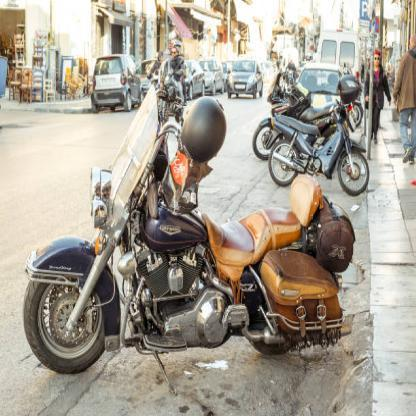Motorcycle: (14, 111, 365, 379)
